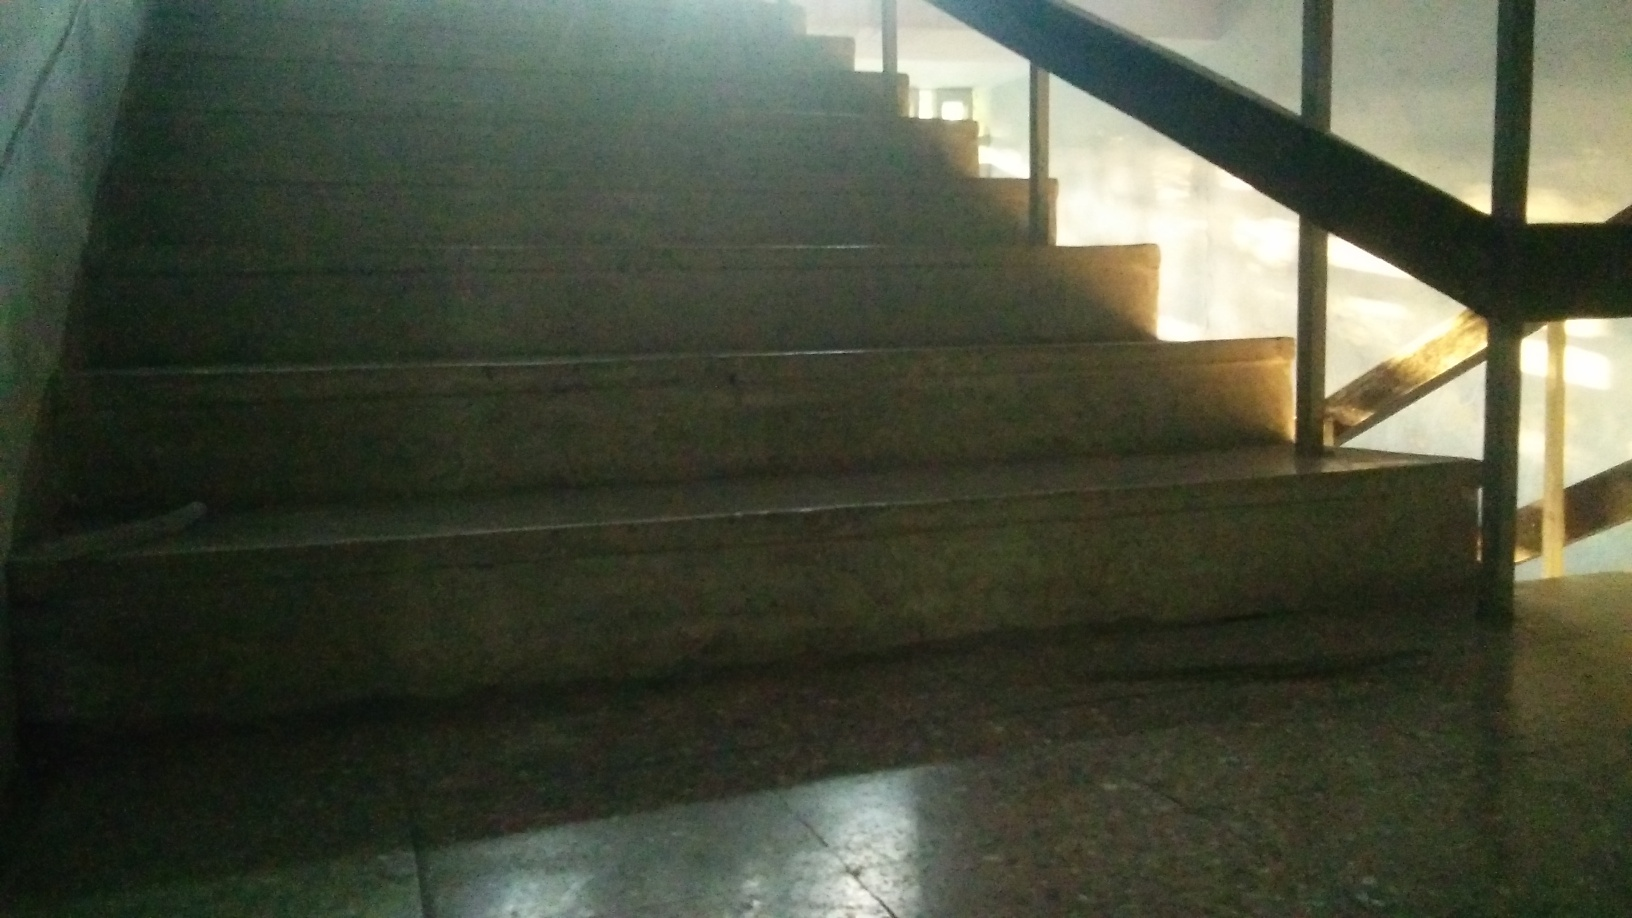stairs_up: (24, 13, 1375, 659)
